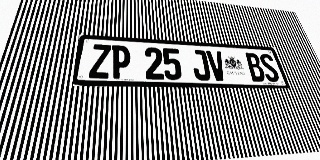2: (144, 47, 164, 80)
5: (162, 48, 183, 80)
B: (244, 53, 267, 82)
J: (190, 49, 212, 81)
P: (110, 45, 130, 79)
S: (258, 53, 281, 82)
V: (206, 50, 228, 81)
Z: (89, 44, 111, 79)
